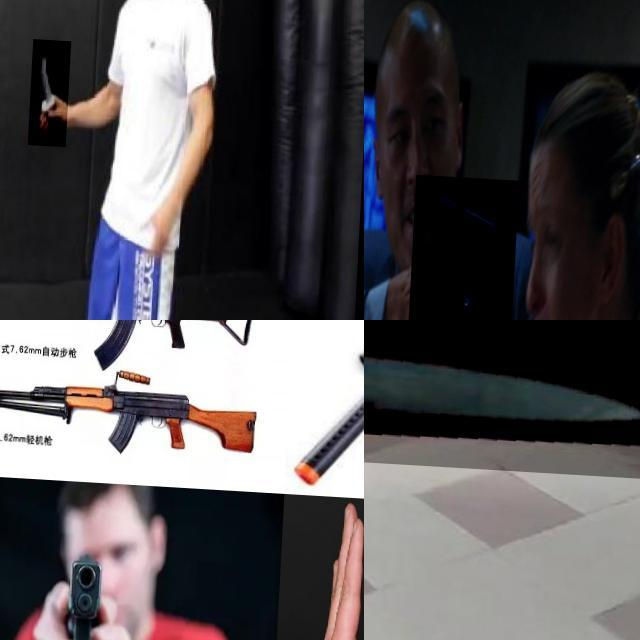-: (364, 320, 640, 472), (32, 35, 74, 143)
gun-knife-thesis - v11 Yolov5 augmented: (0, 365, 268, 471), (410, 173, 521, 320), (0, 320, 263, 373), (0, 320, 254, 373), (65, 547, 113, 640)
